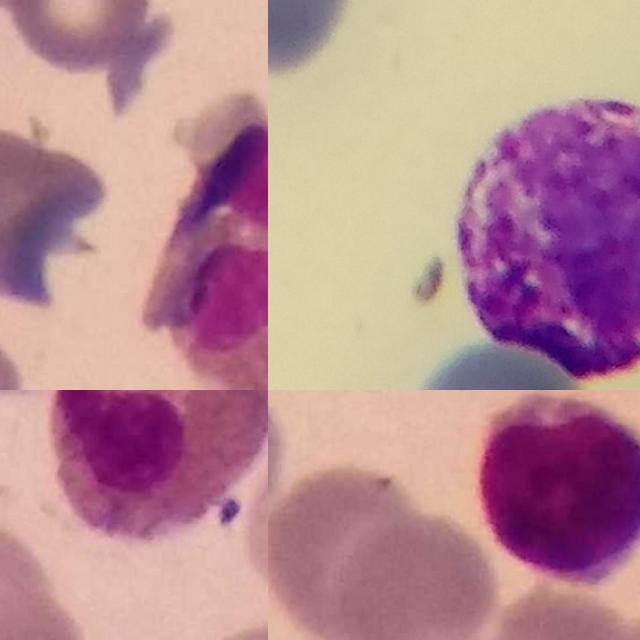Basophil: (450, 94, 640, 380)
Eosinophil: (50, 390, 268, 543), (150, 122, 268, 390)
Lymphocyte: (478, 390, 640, 591)
